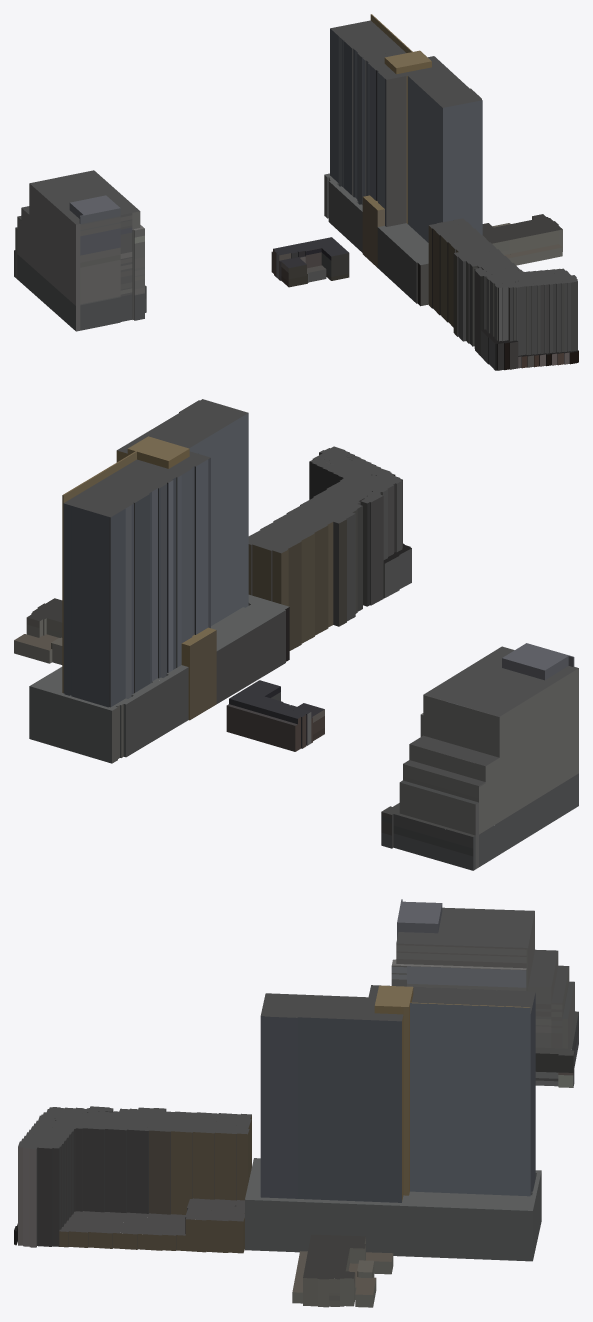
Rendered from t_-2_1.far.glb.
3 renders of one model, top to bottom at view 1: azimuth 30°, elevation 25°; view 2: azimuth 150°, elevation 25°; view 3: azimuth 270°, elevation 25°, orthographic. The views are drawn at different scales.
Visible parts, largest first — view 1: opaque; view 2: opaque; view 3: opaque.
Part boxes in pixels (<box>): opaque: <box>14,14,578,370</box>; opaque: <box>14,399,578,870</box>; opaque: <box>14,899,578,1307</box>.
Bounding box in the file's own units: 232 × 95.7 × 205.
Materials: 1 (1 with a texture image).
